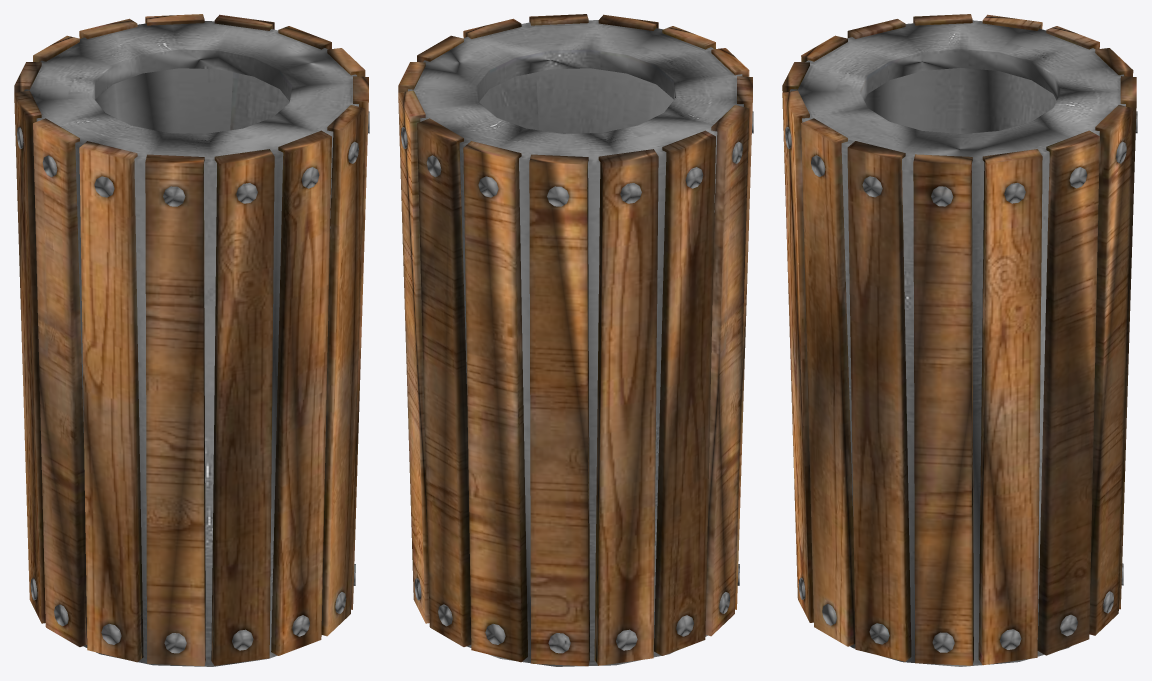
The model's file is bin_wood.glb.
3 views of the same model, side by side, from view 1: azimuth 30°, elevation 25°; view 2: azimuth 150°, elevation 25°; view 3: azimuth 270°, elevation 25° (orthographic).
Parts seen in each view (by area): view 1: tacho.001_w; view 2: tacho.001_w; view 3: tacho.001_w.
Part boxes in pixels (x1=…): tacho.001_w: x1=14, y1=14, x2=369, y2=666; tacho.001_w: x1=398, y1=14, x2=753, y2=666; tacho.001_w: x1=782, y1=14, x2=1137, y2=666.
Size of the model in its own units: 0.5652 by 0.9 by 0.5636.
Materials: 1 (1 with a texture image).
